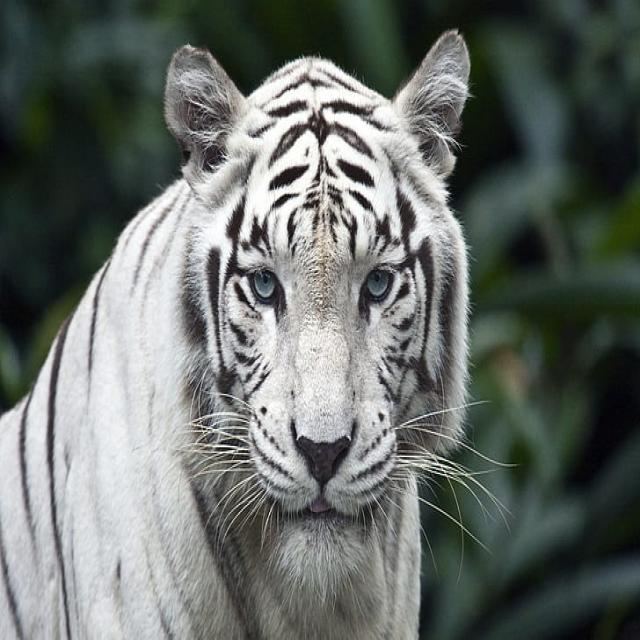Carnivorous: (0, 30, 476, 640)
